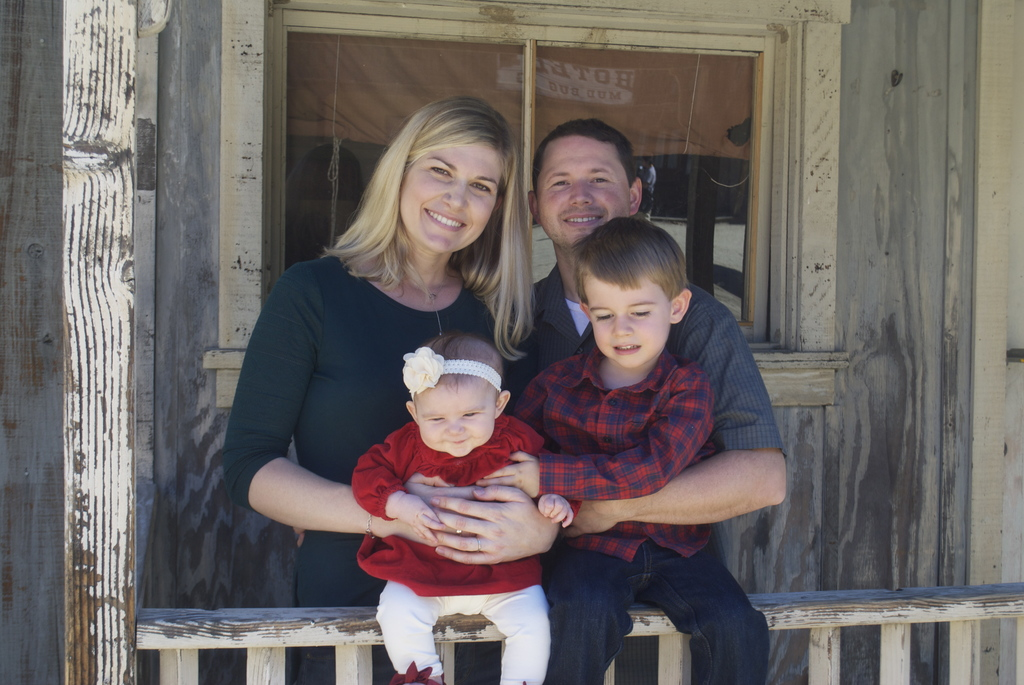Human_hand: (429, 483, 556, 564), (396, 475, 492, 549), (484, 451, 544, 502), (393, 493, 447, 547), (560, 501, 620, 540), (534, 492, 574, 530)
